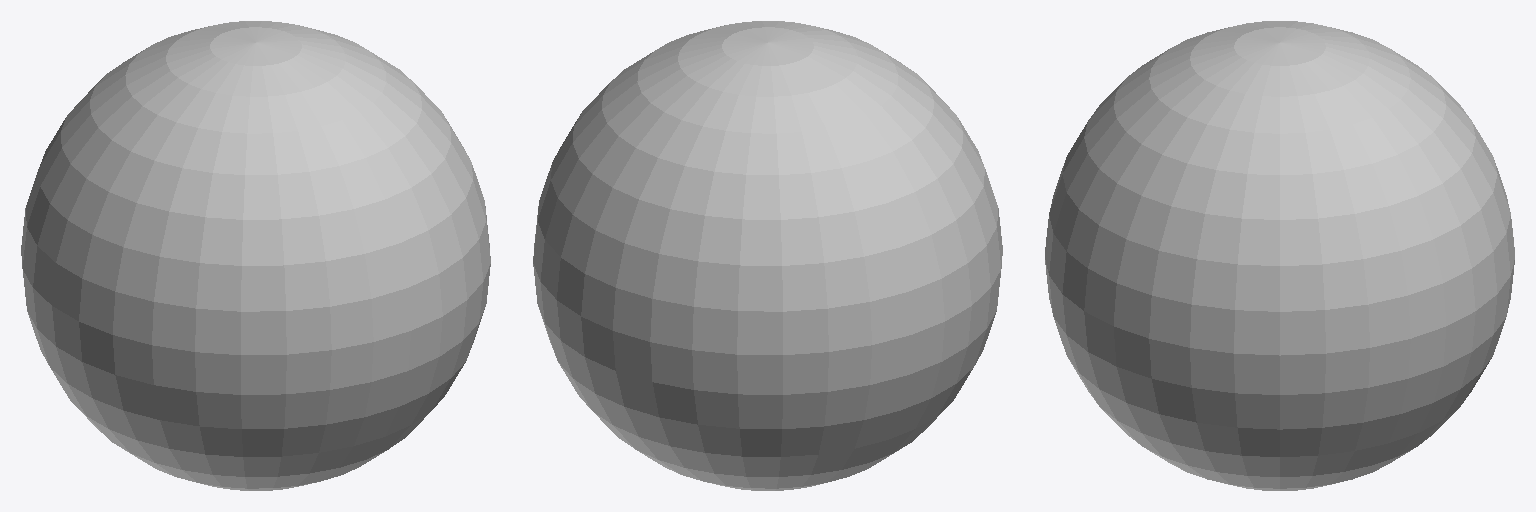
File: invNormSun.obj
3 views of the same model, side by side, from view 1: azimuth 30°, elevation 25°; view 2: azimuth 150°, elevation 25°; view 3: azimuth 270°, elevation 25° (orthographic).
Visible parts, largest first — view 1: Sphere; view 2: Sphere; view 3: Sphere.
Part boxes in pixels (x1,y1,x2,y2): Sphere: (21, 21, 490, 490); Sphere: (533, 21, 1002, 490); Sphere: (1045, 21, 1514, 490).
Size of the model in its own units: 2 by 2 by 2.